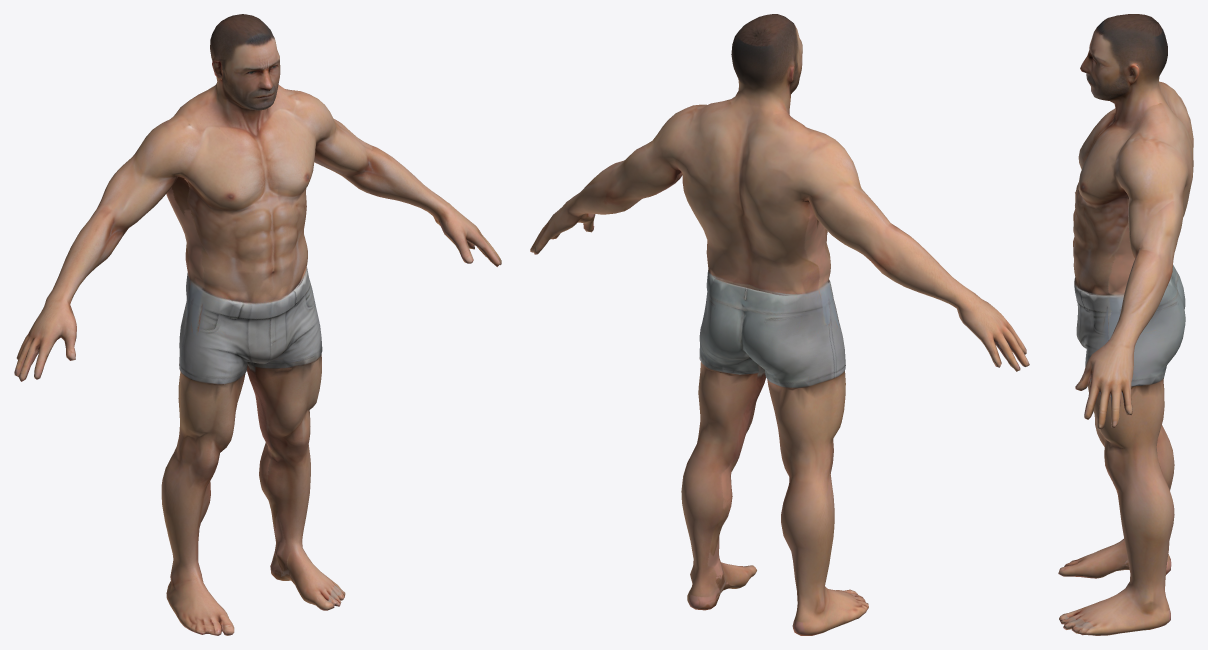
The model's file is male_avatar_base.glb.
The picture shows the model from 3 angles, left to right: view 1: azimuth 30°, elevation 25°; view 2: azimuth 150°, elevation 25°; view 3: azimuth 270°, elevation 25°; orthographic projection. The views are drawn at different scales.
Size of the model in its own units: 1.74 by 2 by 0.4209.
1 material, 1 textured.
